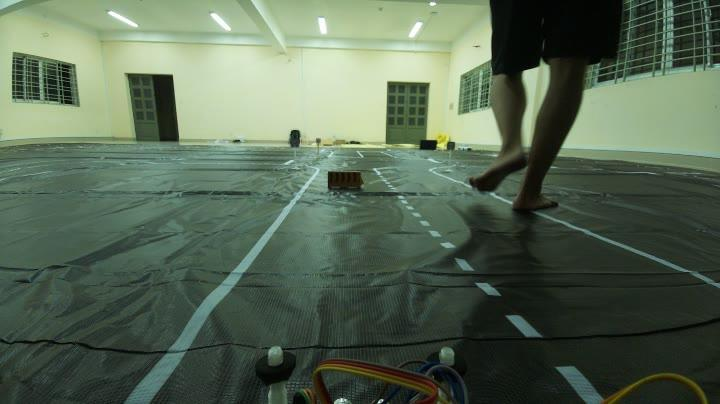roadblock: (325, 166, 371, 200)
